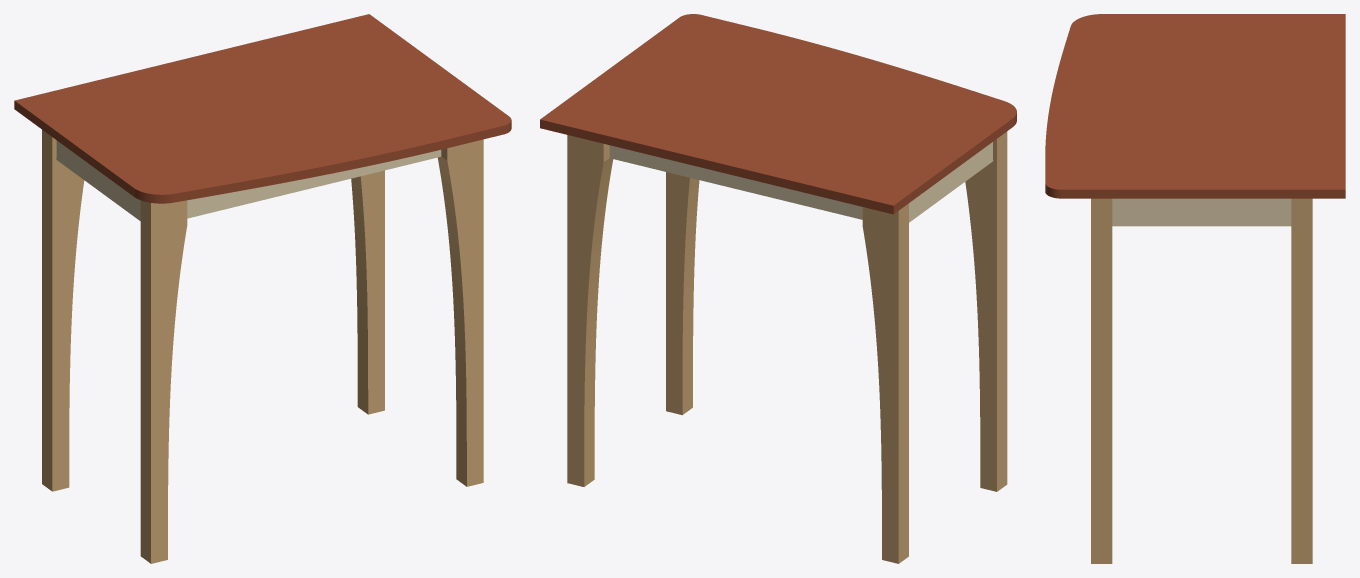
The model's file is table.glb.
The picture shows the model from 3 angles, left to right: view 1: azimuth 30°, elevation 25°; view 2: azimuth 150°, elevation 25°; view 3: azimuth 270°, elevation 25°; orthographic projection.
Visible parts, largest first — view 1: top, front-left, front-right, back-left, back-right, front apron, left apron; view 2: top, back-left, back-right, front-left, front-right, back apron, left apron; view 3: top, back-right, front-right, right apron.
Part boxes in pixels (x1,y1,x2,y2): top: (14, 14, 511, 203); front-left: (140, 200, 187, 563); front-right: (437, 139, 483, 486); back-left: (42, 130, 84, 491); back-right: (351, 170, 384, 414); front apron: (187, 150, 441, 218); left apron: (56, 140, 140, 220); top: (540, 14, 1016, 214); back-left: (862, 203, 908, 563); back-right: (567, 135, 613, 486); front-left: (965, 131, 1007, 491); front-right: (666, 172, 699, 415); back apron: (609, 145, 862, 219); left apron: (909, 142, 993, 222); top: (1045, 14, 1345, 198); back-right: (1291, 198, 1312, 563); front-right: (1091, 198, 1112, 563); right apron: (1112, 198, 1291, 226).
Bounding box in the file's own units: 0.0318 × 0.032 × 0.0229.
